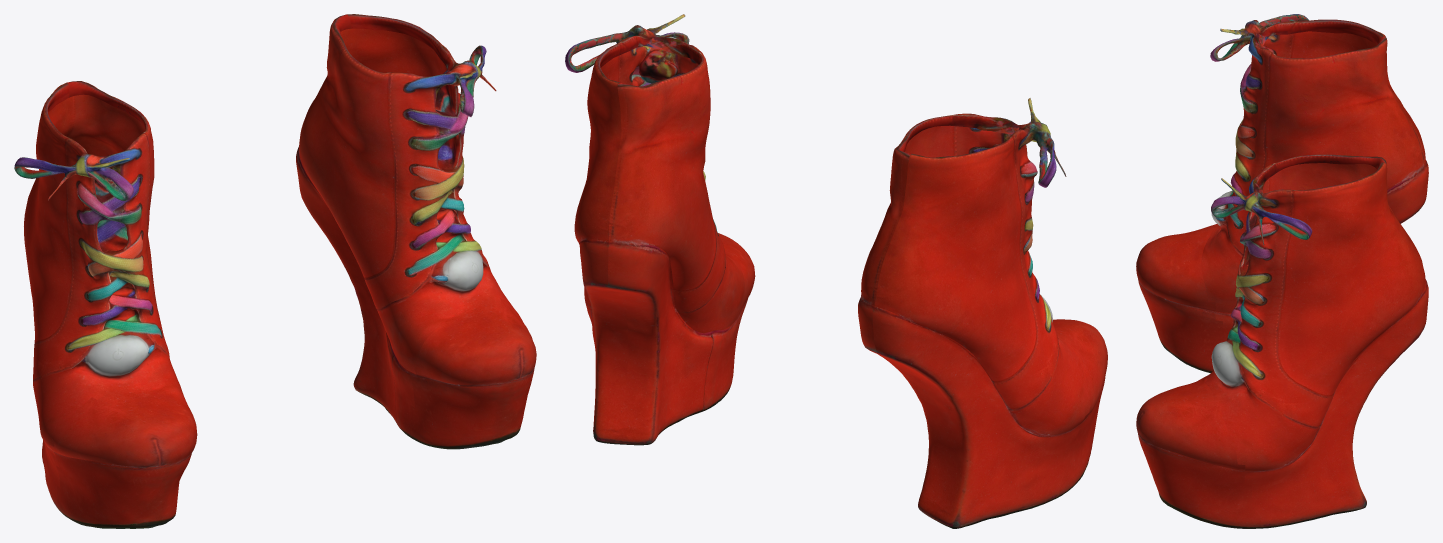
Rendered from Red_Wedges.glb.
The picture shows the model from 3 angles, left to right: view 1: azimuth 30°, elevation 25°; view 2: azimuth 150°, elevation 25°; view 3: azimuth 270°, elevation 25°; orthographic projection. The views are drawn at different scales.
Parts seen in each view (by area): view 1: LFoot, rFoot, rToe, lToe; view 2: rFoot, LFoot, rToe, lToe; view 3: LFoot, rFoot, lToe, rToe.
Part boxes in pixels (x1=…): LFoot: x1=296, y1=14, x2=512, y2=434; rFoot: x1=14, y1=81, x2=185, y2=508; rToe: x1=50, y1=390, x2=197, y2=528; lToe: x1=405, y1=298, x2=536, y2=449; rFoot: x1=858, y1=98, x2=1090, y2=528; LFoot: x1=565, y1=14, x2=744, y2=445; rToe: x1=1053, y1=319, x2=1107, y2=498; lToe: x1=715, y1=233, x2=755, y2=404; LFoot: x1=1201, y1=154, x2=1428, y2=528; rFoot: x1=1201, y1=14, x2=1428, y2=341; lToe: x1=1136, y1=378, x2=1261, y2=528; rToe: x1=1136, y1=225, x2=1224, y2=373.
Bounding box in the file's own units: 0.3494 × 0.2582 × 0.2048.
4 materials, 4 textured.
